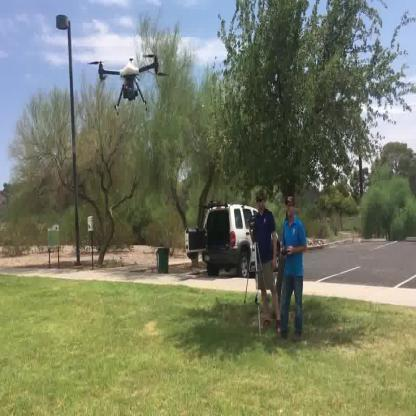drone: (88, 54, 168, 110)
